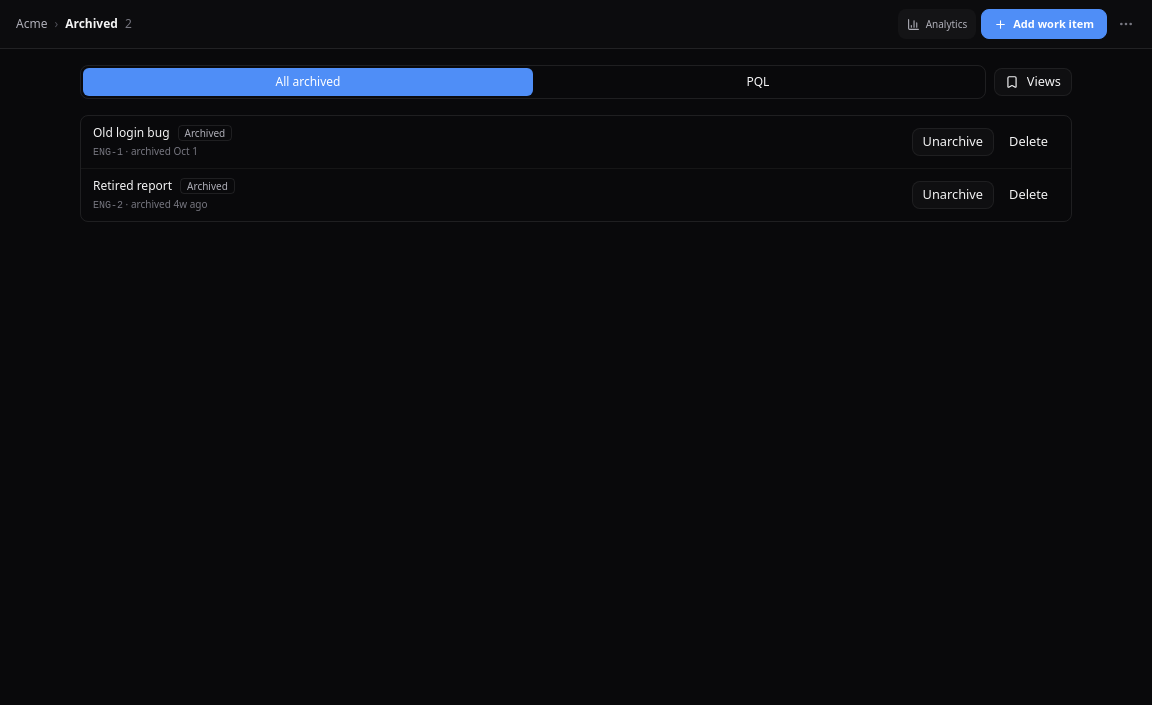
archived PQL mode (C111T1) › leaving PQL mode restores the full archived set and closes the editor
The image size is (1152, 705).
Expected: the link "Old login bug" is shown, x1=93 y1=124 x2=170 y2=142
Expected: the link "Retired report" is shown, x1=93 y1=177 x2=172 y2=195
Click the button "PQL" at [758, 82], box x1=533 y1=68 x2=983 y2=96
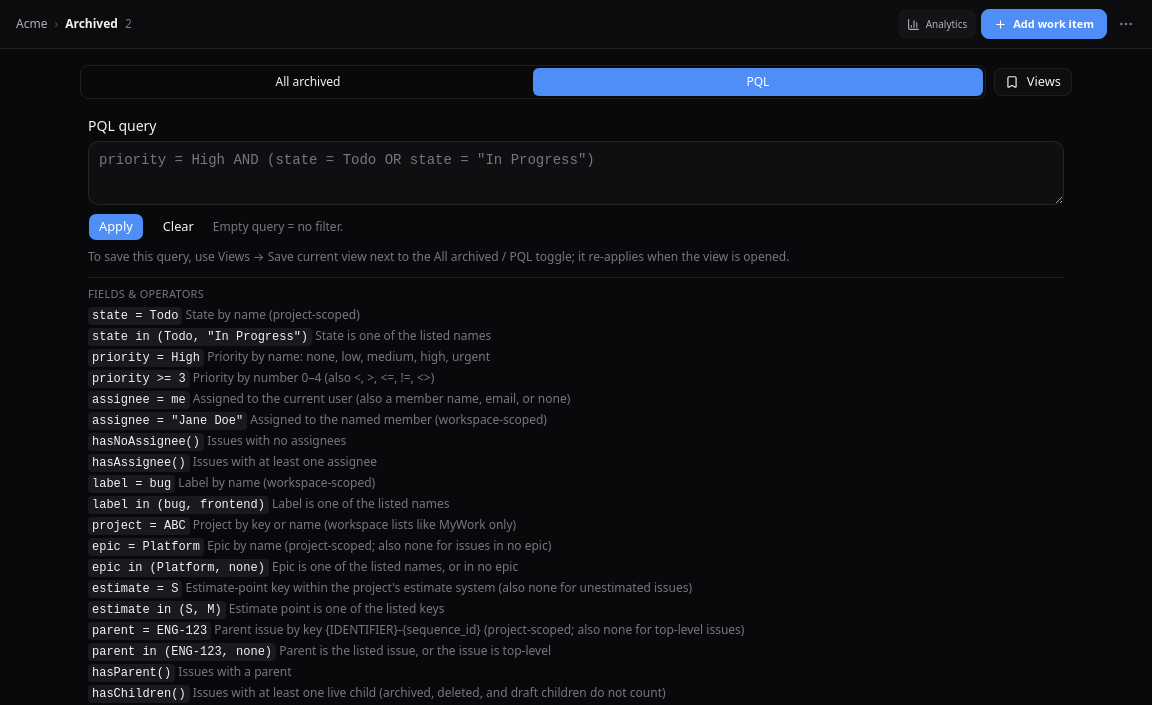
Expected: the text box labelled "PQL query" is shown
Type "priority = High" into the text box labelled "PQL query" at [576, 173], box x1=88 y1=141 x2=1064 y2=205
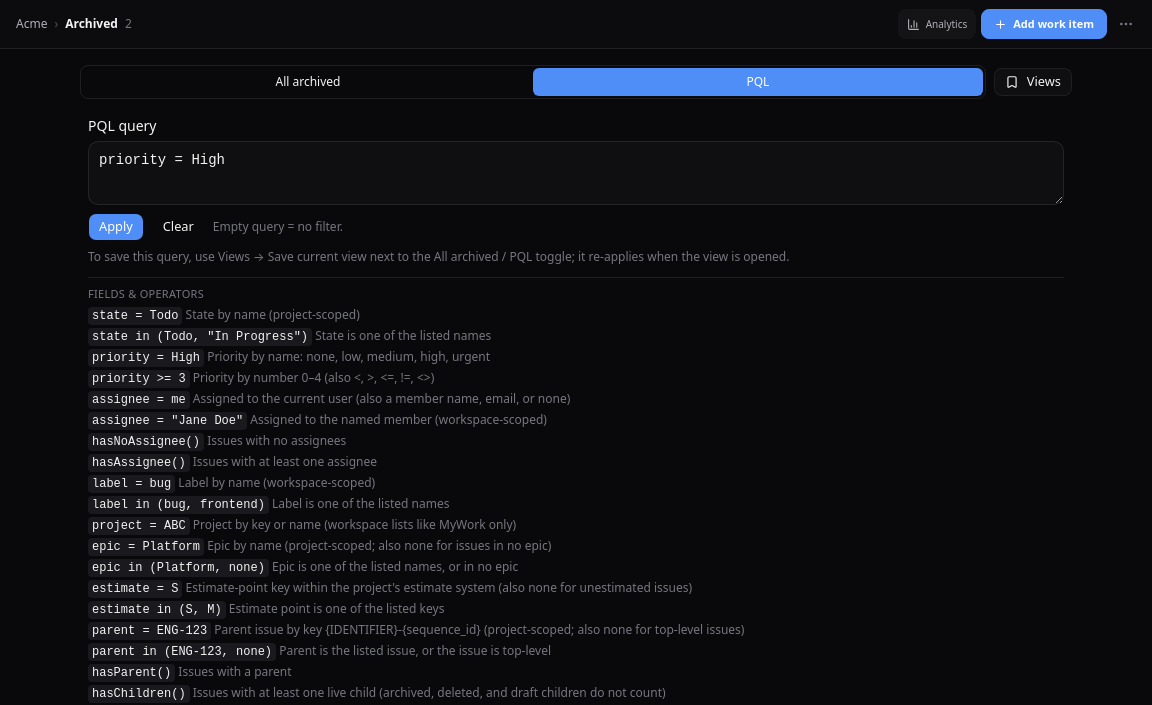
Click the button "Apply" at [116, 227], box x1=88 y1=213 x2=144 y2=241
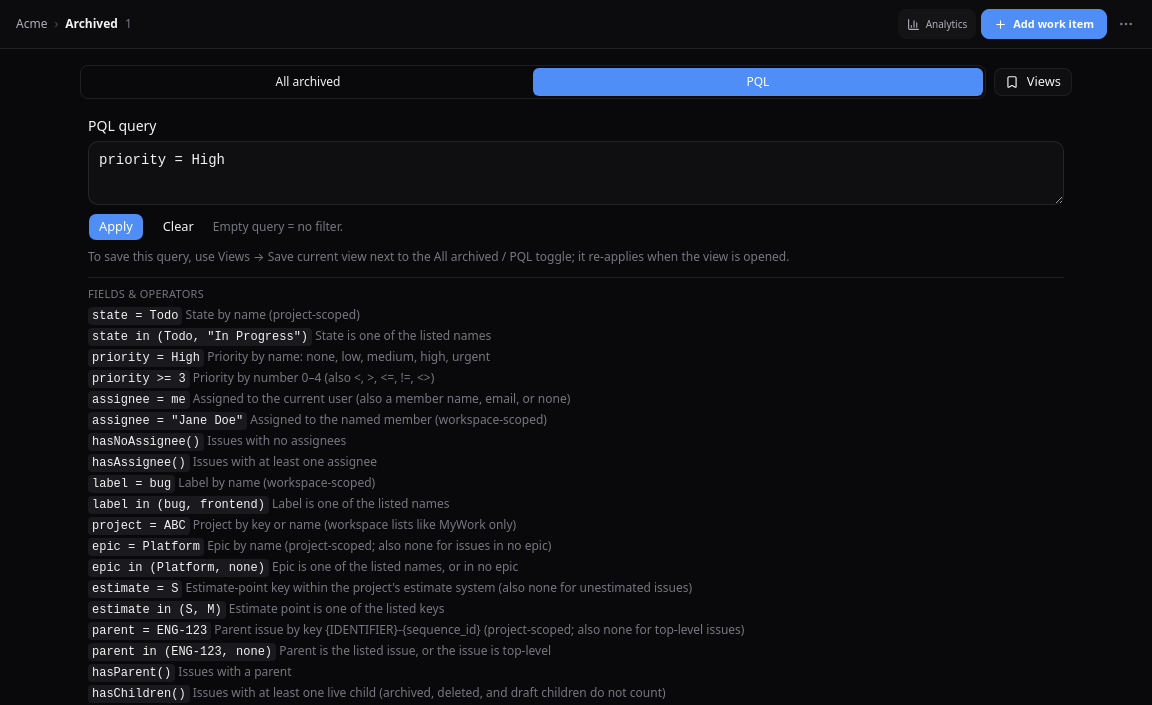
Expected: the link "Retired report" is not shown
Click the button "All archived" at [308, 82], box x1=83 y1=68 x2=533 y2=96
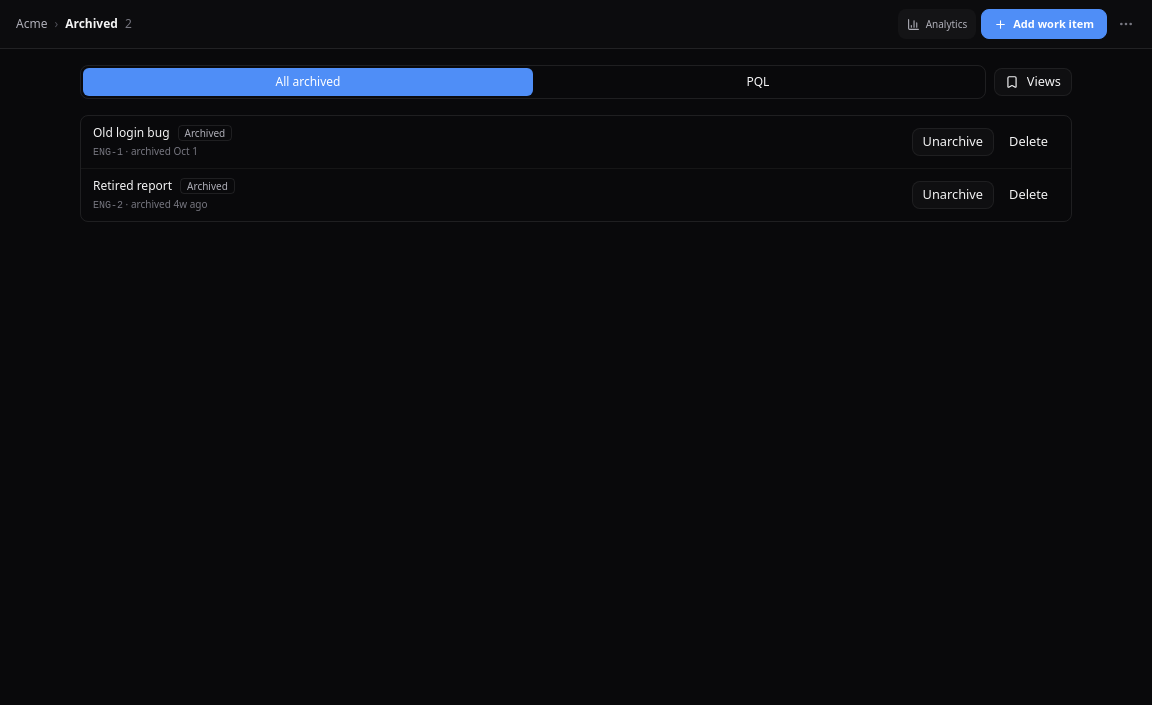
Expected: the link "Old login bug" is shown, x1=93 y1=124 x2=170 y2=142
Expected: the link "Retired report" is shown, x1=93 y1=177 x2=172 y2=195
Expected: the label labelled "PQL query" is gone
